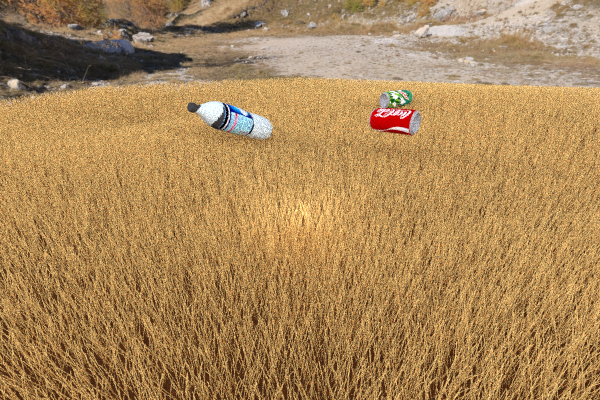bottle: (187, 101, 273, 140)
can: (369, 107, 420, 135), (379, 89, 412, 108)
